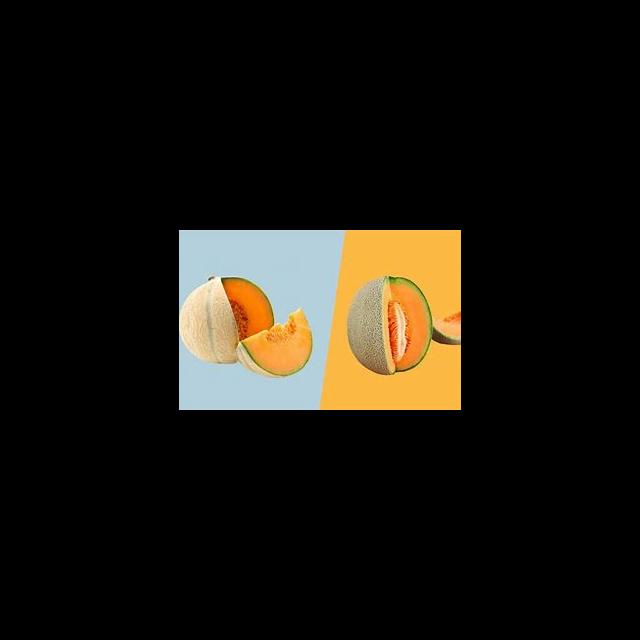Hami Melon: (182, 273, 276, 365), (348, 277, 434, 376), (236, 309, 316, 376)
